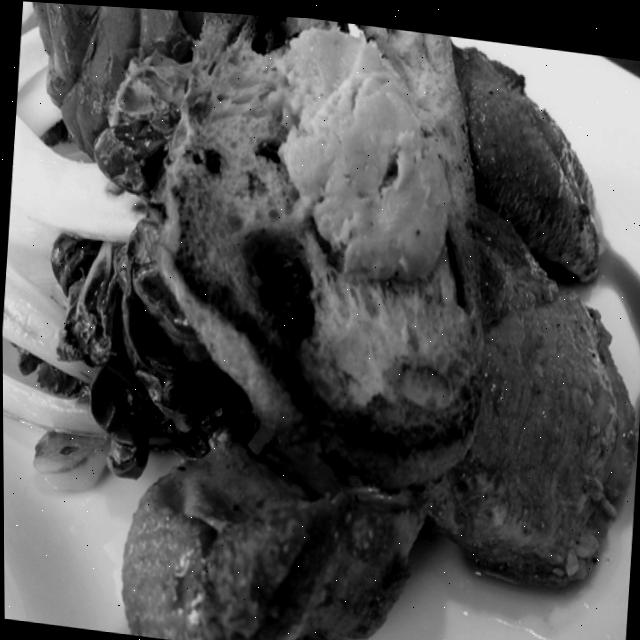烧串烤肉: (36, 2, 640, 640)
